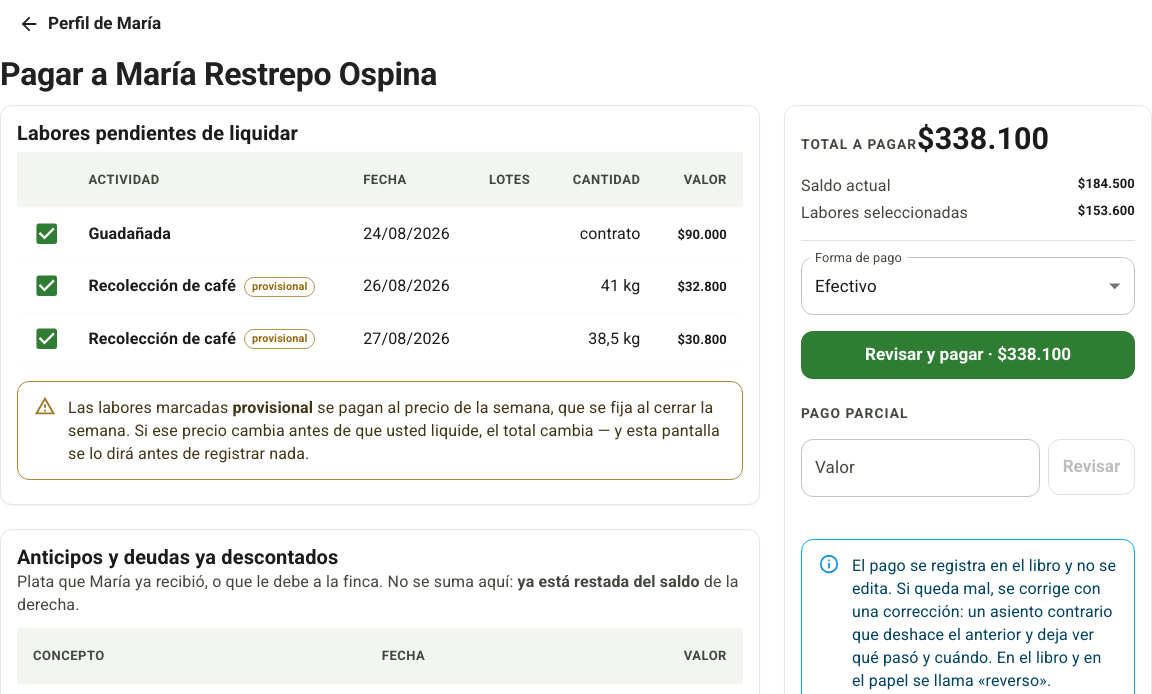
Test case: paying more than is owed › lets the value be corrected instead
Expected: the heading "Labores pendientes de liquidar" is shown, [17, 120, 298, 144]
In the field labelled "Valor": (920, 468) [801, 439, 1040, 497], type "99999999"
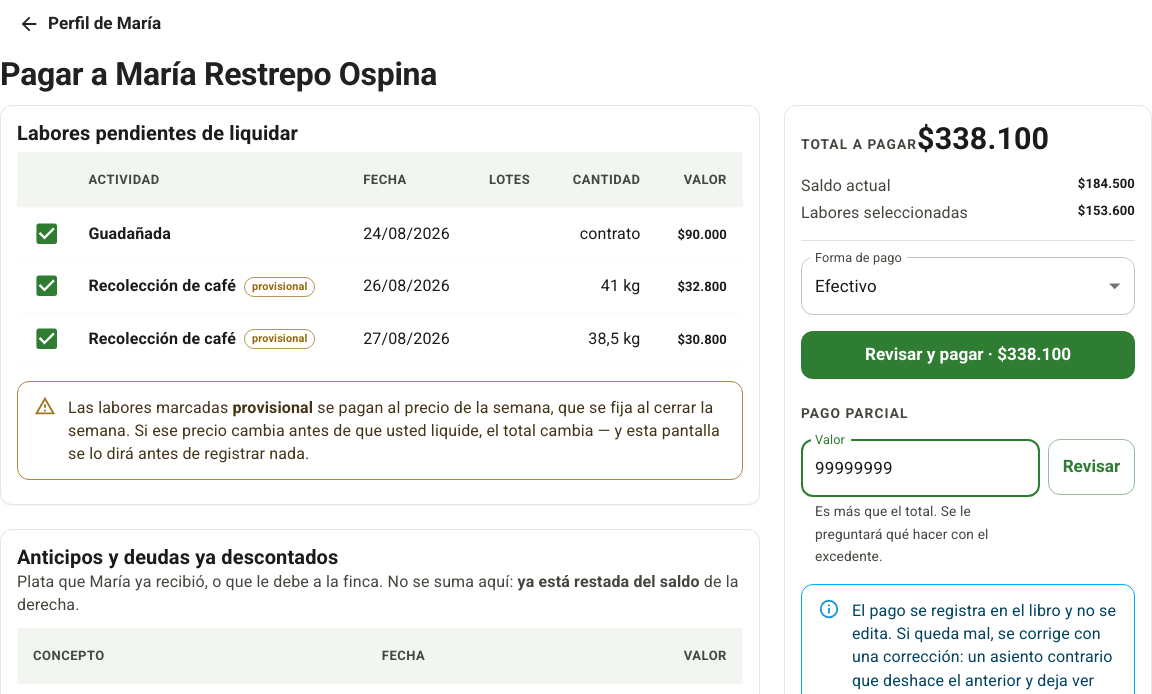
Click the button "Revisar": (1091, 467) [1048, 439, 1135, 495]
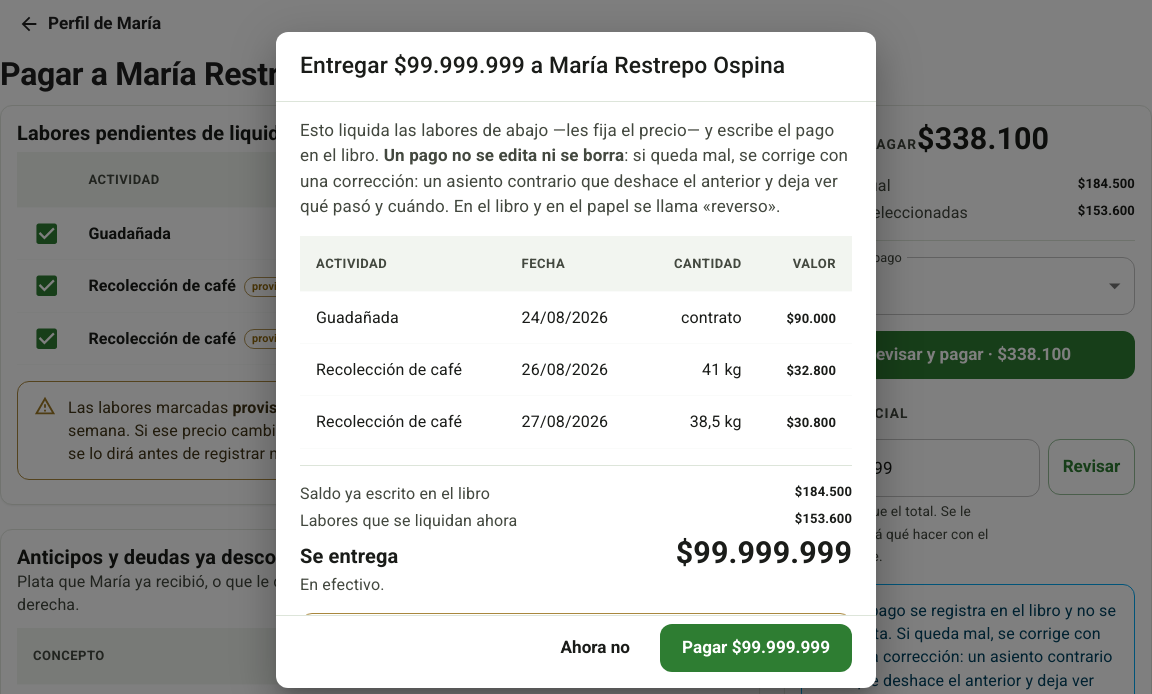
Click the button "Pagar $99.999.999": (756, 648) [660, 624, 852, 672]
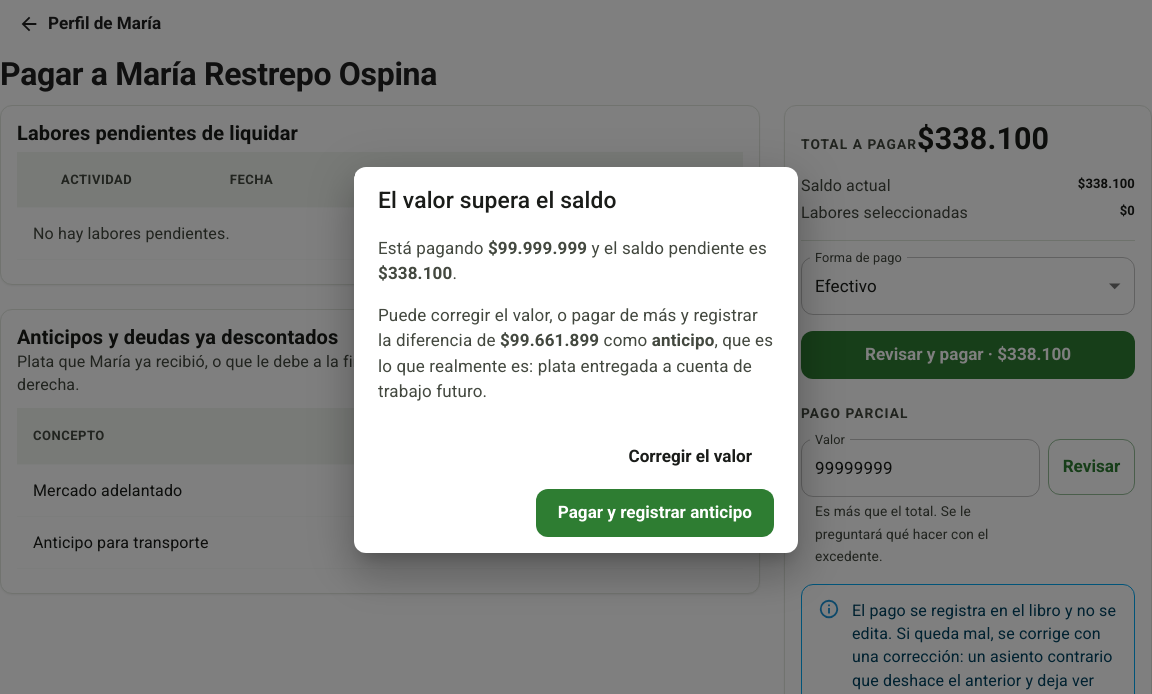
Click the button "Corregir el valor": (690, 457) [606, 433, 774, 481]
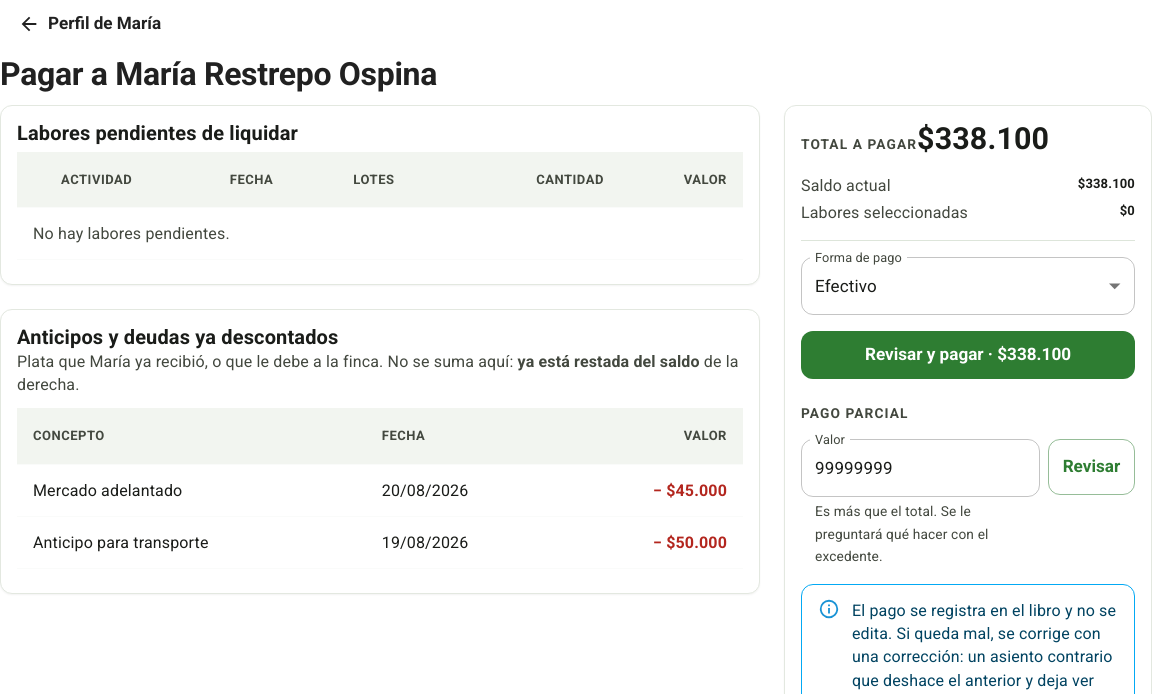
Expected: the heading "El valor supera el saldo" is gone
